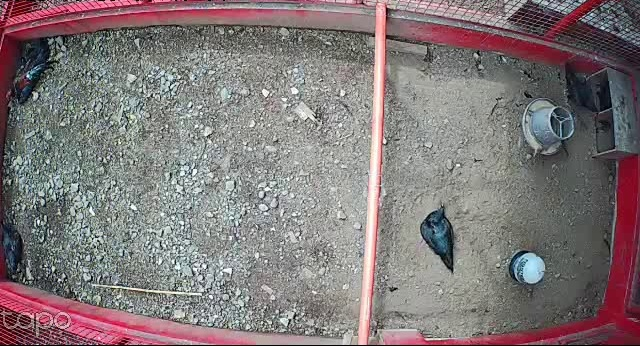Chicken: (419, 198, 454, 275), (559, 61, 600, 116)
Drinker: (507, 248, 548, 287)
Feeder: (521, 93, 576, 156)
Rooster: (4, 36, 52, 106)
